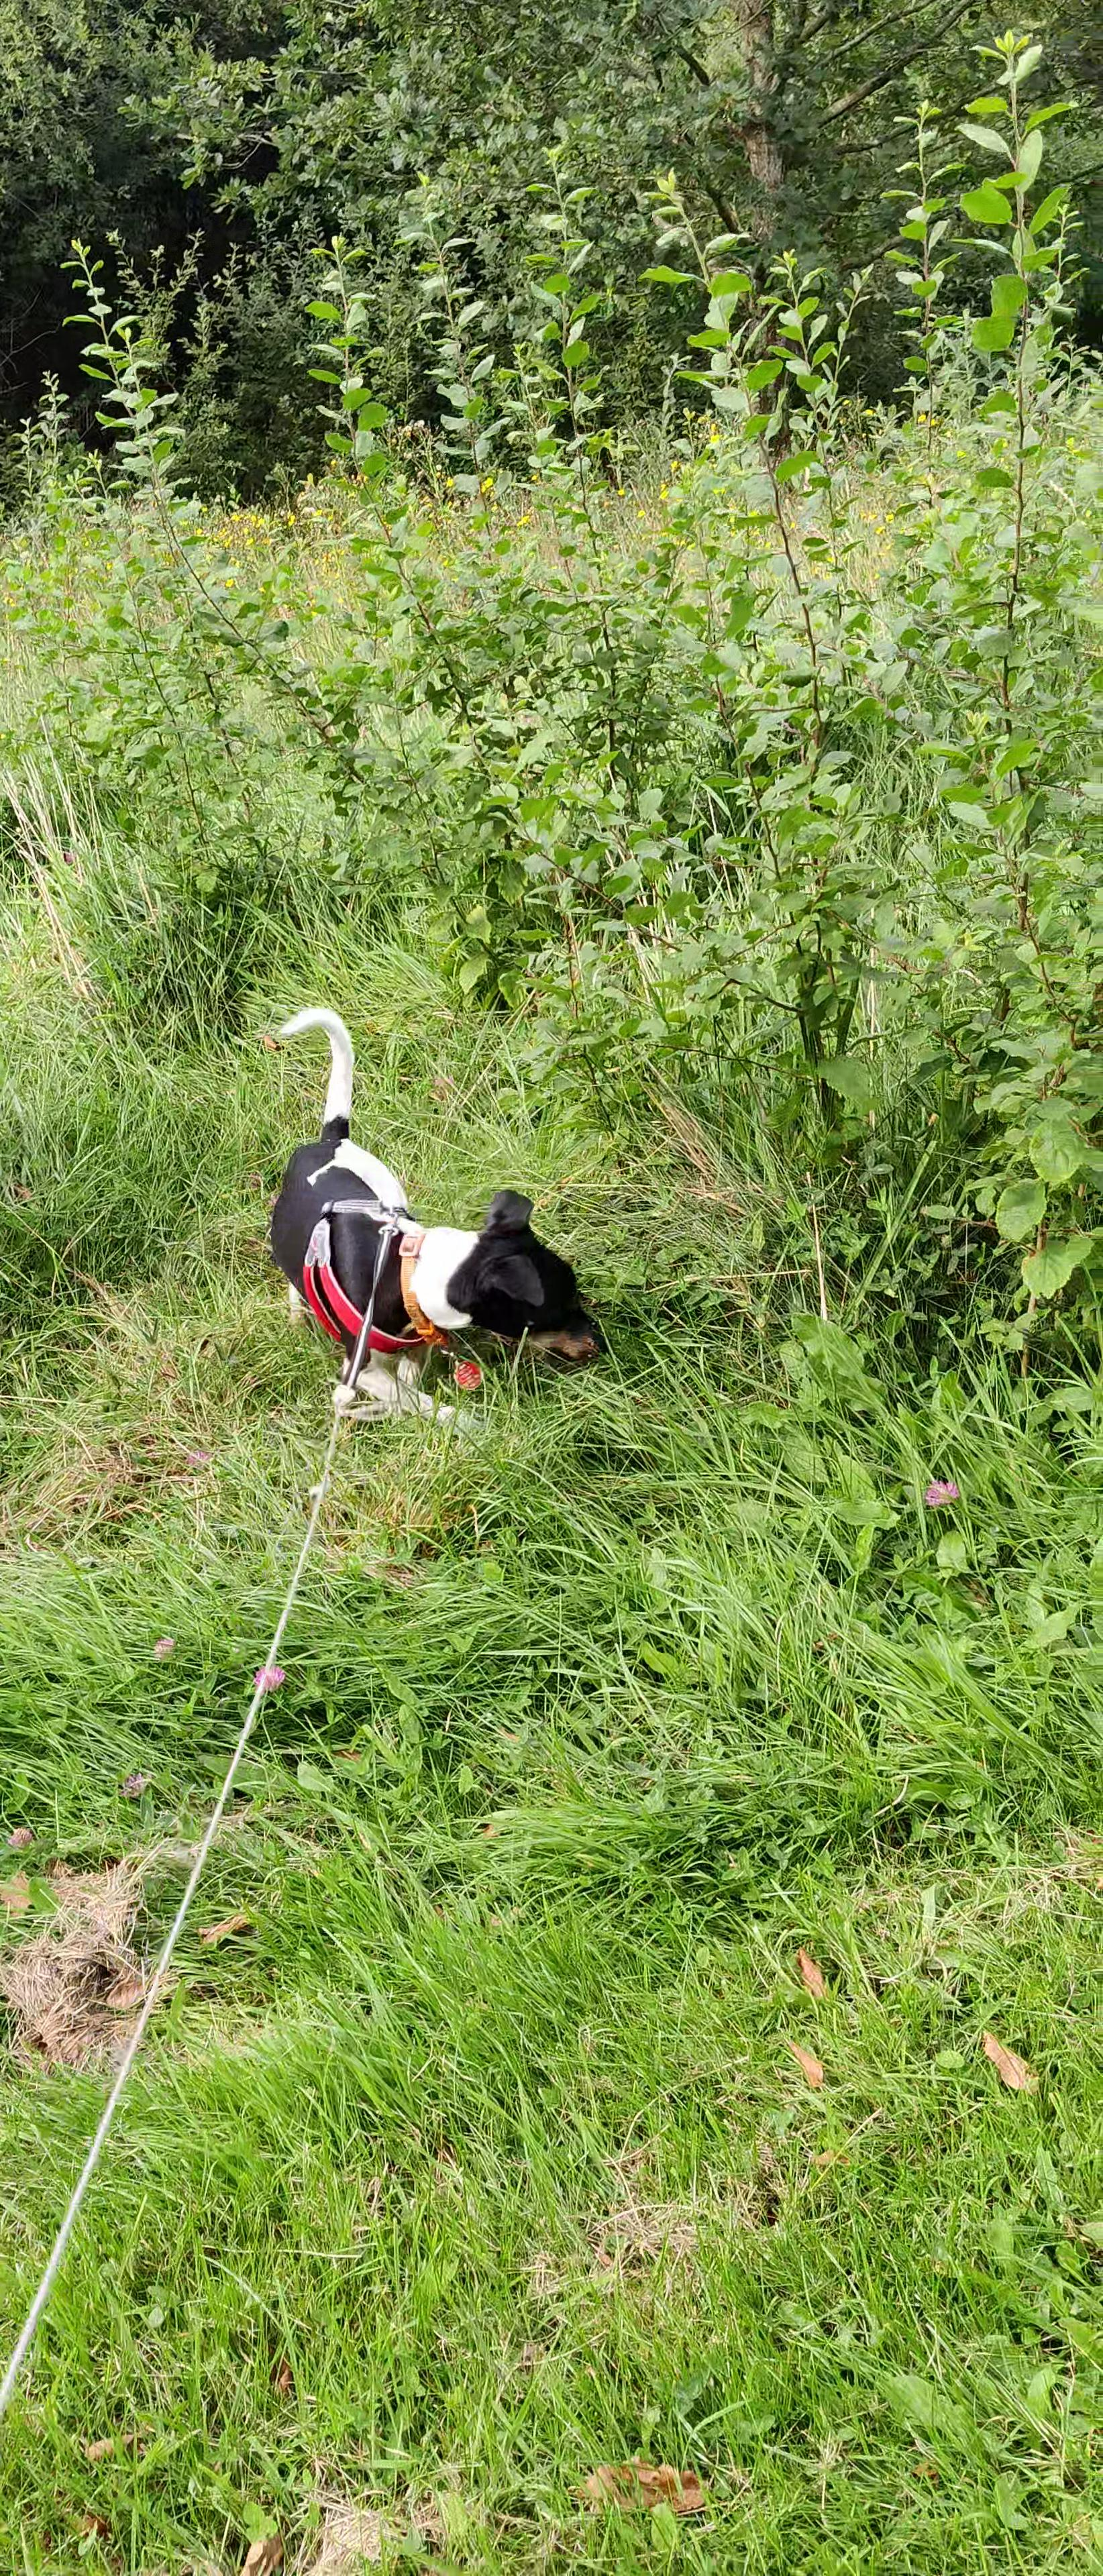Dog: (240, 1002, 623, 1428)
